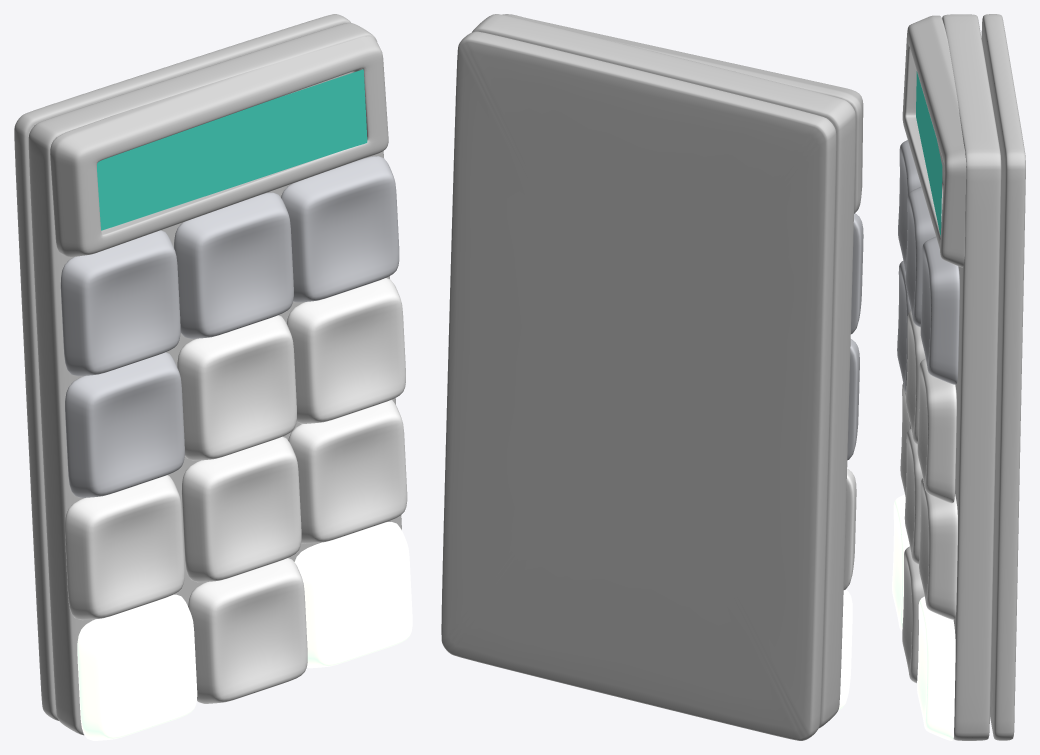
Rendered from Keypad.glb.
The picture shows the model from 3 angles, left to right: view 1: azimuth 30°, elevation 25°; view 2: azimuth 150°, elevation 25°; view 3: azimuth 270°, elevation 25°; orthographic projection. The views are drawn at different scales.
Visible parts, largest first — view 1: Keypad, Body; view 2: Body, Keypad; view 3: Body, Keypad.
Boxes of the visible parts, <box> form: Keypad: <box>60,69,412,740</box>; Body: <box>14,14,401,735</box>; Body: <box>441,14,863,740</box>; Keypad: <box>838,213,863,709</box>; Body: <box>902,14,1025,740</box>; Keypad: <box>892,71,959,740</box>.
Size of the model in its own units: 1.27 by 2.03 by 0.4168.
